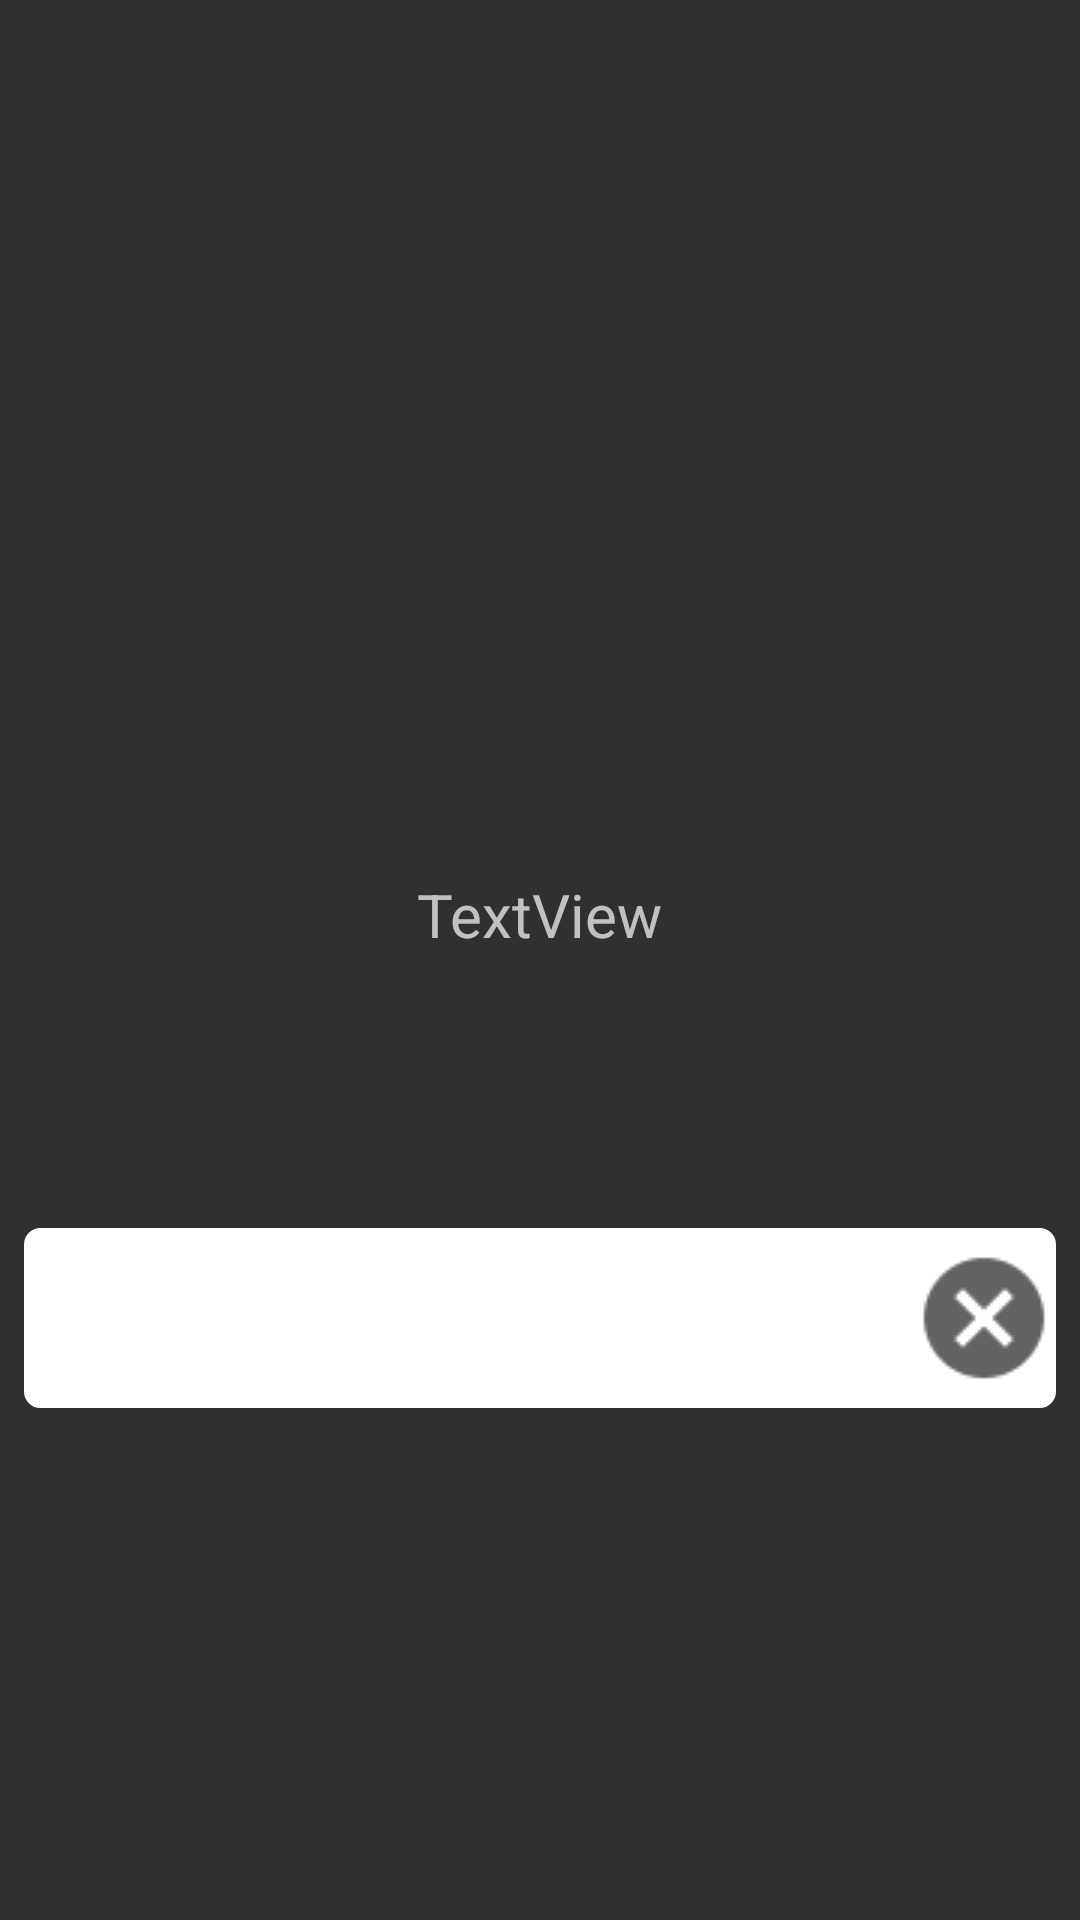

Locate icon controls on the screen. Image size 1080x1920, boxes as bbox=[x1, y1, x2, y2].
clear: bbox=[923, 1257, 1045, 1379]
